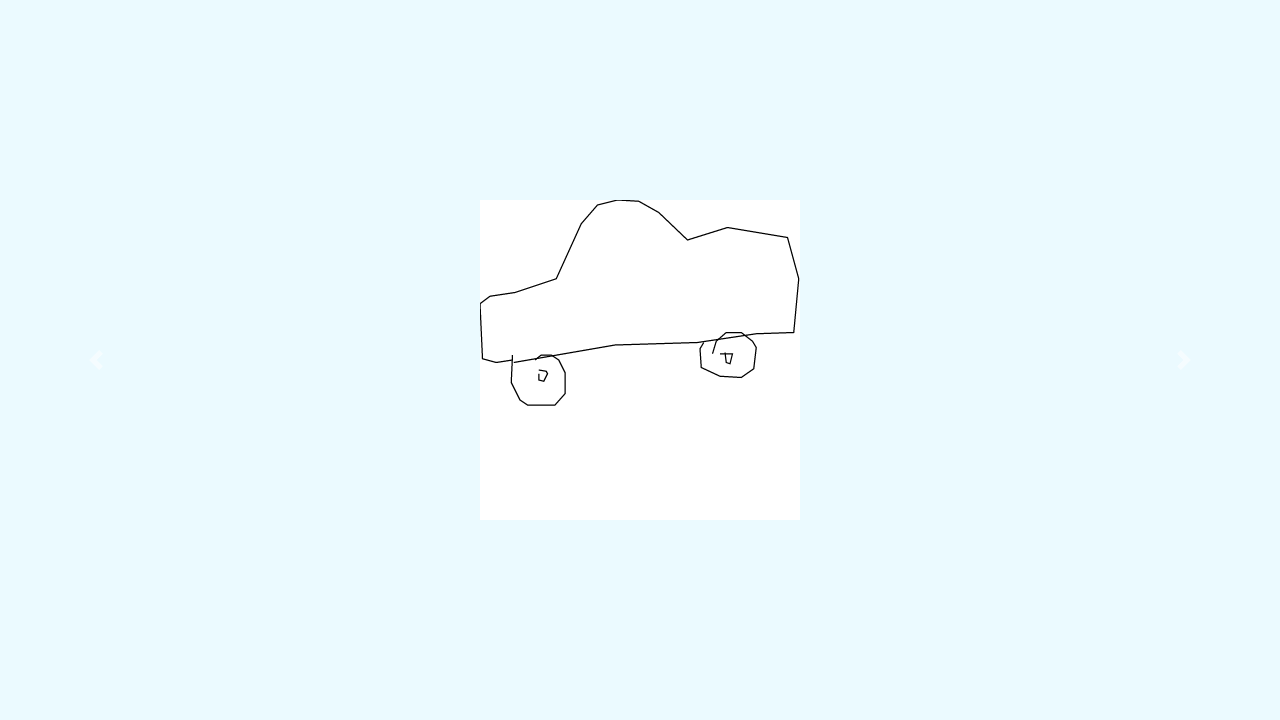car: (471, 194, 810, 414)
